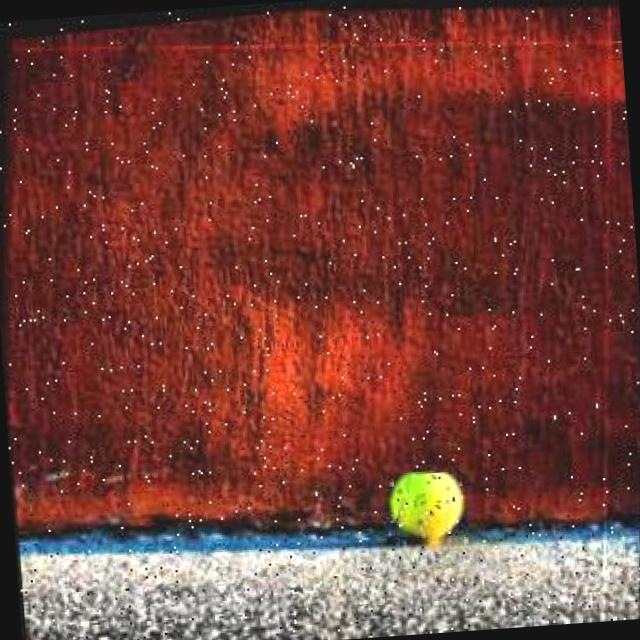Tennis Ball: (377, 464, 472, 551)
